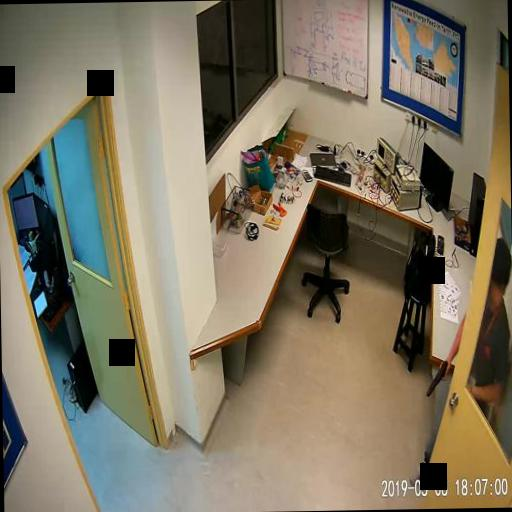Handgun: (426, 358, 448, 396)
